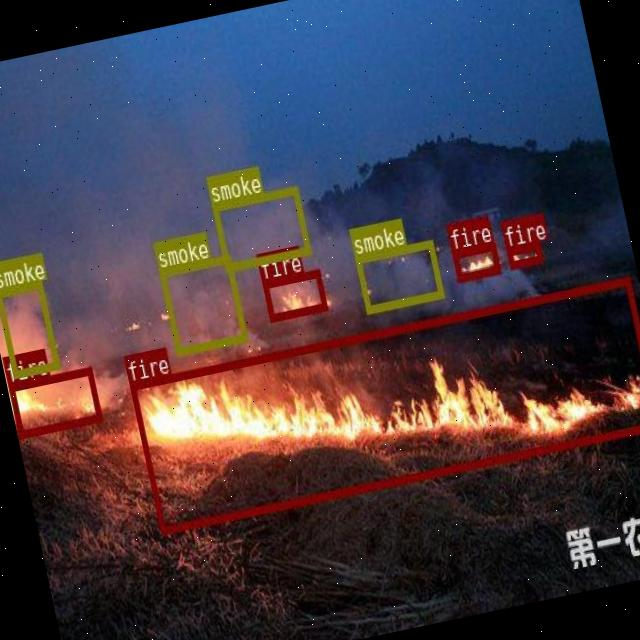fire: (128, 276, 640, 532), (7, 365, 101, 437), (262, 268, 326, 320), (451, 242, 498, 280), (506, 242, 542, 268)
smoke: (158, 253, 246, 354), (210, 185, 310, 271), (353, 238, 443, 312), (0, 279, 59, 377)
